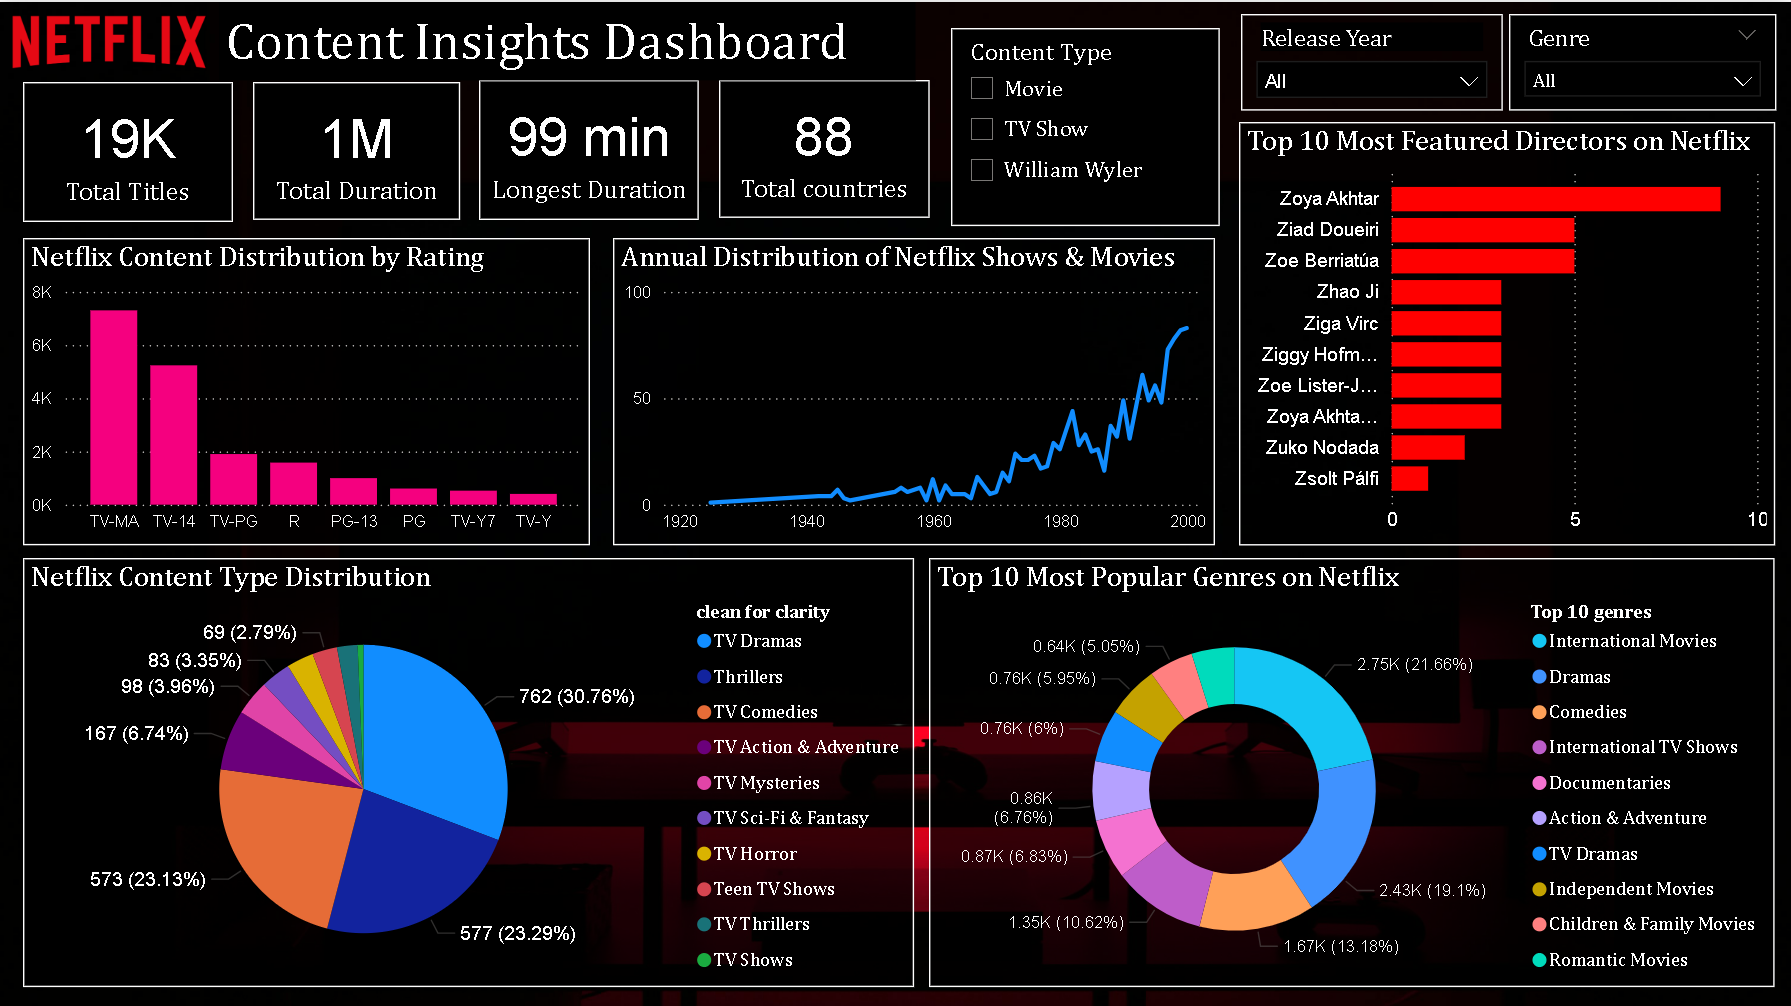

What the dashboard file says about the page in this screenshot:
{"tool":"powerbi","page":{"name":"Page 1","canvas":[1280,720],"ordinal":0},"visuals":[{"type":"card","fields":{"Values":["netflix1.Total Titles"]},"box":[17.1,57.1,150,100],"z":0},{"type":"card","fields":{"Values":["netflix1.Max run time"]},"box":[343.2,55.8,157.1,100],"z":1000},{"type":"card","fields":{"Values":["netflix1.duration in min"]},"box":[181.1,57.1,148.1,98.7],"z":2000},{"type":"card","fields":{"Values":["netflix1.total countries"]},"box":[514.3,55.8,150.6,98.7],"z":3000},{"type":"shape","box":[500,185.7,272.7,211.7],"z":4000},{"type":"barChart","title":"Top 10 Most Featured Directors on Netflix","fields":{"Category":["netflix1.director"],"Y":["netflix1.director"]},"box":[885.7,85.7,383.1,302.6],"z":5000},{"type":"lineChart","title":"Annual Distribution of Netflix Shows & Movies","fields":{"Category":["netflix1.release_year"],"Y":["netflix1.show_id"]},"box":[439,168.8,429.9,219.5],"z":6000},{"type":"donutChart","title":"Top 10 Most Popular Genres on Netflix","fields":{"Category":["netflix1.clean for clarity"],"Y":["netflix1.show_id"]},"box":[664.9,397.4,603.9,306.5],"z":7000},{"type":"clusteredColumnChart","title":"Netflix Content Distribution by Rating","fields":{"Category":["netflix1.rating"],"Y":["netflix1.show_id"]},"box":[16.9,168.8,405.2,219.5],"z":8000},{"type":"pieChart","title":"Netflix Content Type Distribution ","fields":{"Category":["netflix1.clean for clarity"],"Y":["netflix1.show_id"],"Series":["netflix1.type"]},"box":[16.9,397.4,636.4,306.5],"z":9000},{"type":"slicer","fields":{"Values":["netflix1.release_year"]},"box":[887,9.1,187,68.8],"z":10000},{"type":"slicer","fields":{"Values":["netflix1.type"]},"box":[680.5,18.2,192.2,141.6],"z":11000},{"type":"slicer","fields":{"Values":["netflix1.clean for clarity"]},"box":[1079.2,9.1,190.9,68.8],"z":12000},{"type":"image","box":[0,0,157.1,55.8],"z":13000},{"type":"textbox","box":[157.1,0,497.4,55.8],"z":14000}]}

Visuals, with their boxes in screenshot pixels (x1, y1, x2, y2), scaled from the page's 1280x720 canvas onto the 1791x1006 screenshot:
card - netflix1.Total Titles: rect(24, 80, 234, 220)
card - netflix1.Max run time: rect(480, 78, 700, 218)
card - netflix1.duration in min: rect(253, 80, 461, 218)
card - netflix1.total countries: rect(720, 78, 930, 216)
shape: rect(700, 259, 1081, 555)
"Top 10 Most Featured Directors on Netflix" barChart: rect(1239, 120, 1775, 543)
"Annual Distribution of Netflix Shows & Movies" lineChart: rect(614, 236, 1216, 543)
"Top 10 Most Popular Genres on Netflix" donutChart: rect(930, 555, 1775, 984)
"Netflix Content Distribution by Rating" clusteredColumnChart: rect(24, 236, 591, 543)
"Netflix Content Type Distribution " pieChart: rect(24, 555, 914, 984)
slicer - netflix1.release_year: rect(1241, 13, 1503, 109)
slicer - netflix1.type: rect(952, 25, 1221, 223)
slicer - netflix1.clean for clarity: rect(1510, 13, 1777, 109)
image: rect(0, 0, 220, 78)
textbox: rect(220, 0, 916, 78)
